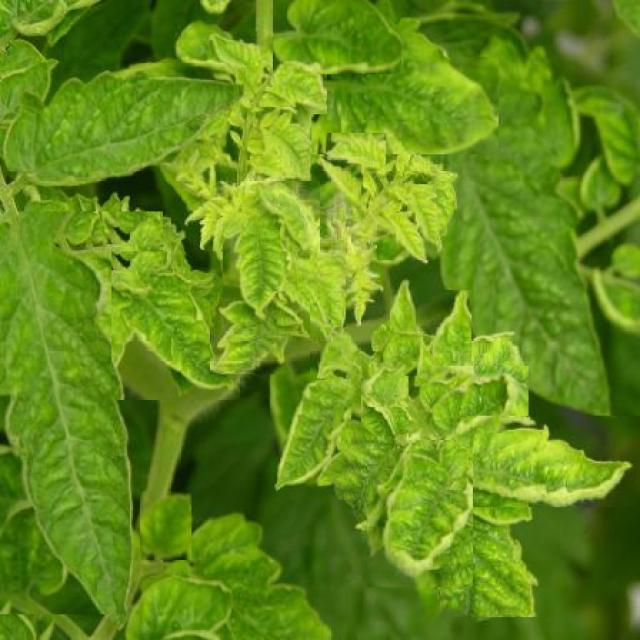Yellow Leaf Curl Virus: (0, 212, 163, 615), (2, 63, 247, 186), (302, 57, 499, 154), (112, 251, 240, 400), (455, 415, 640, 507), (367, 449, 473, 587), (271, 354, 365, 500), (441, 500, 552, 618), (272, 0, 401, 74), (408, 366, 529, 441), (210, 292, 310, 374), (223, 209, 297, 312), (122, 575, 231, 640), (286, 241, 346, 338), (257, 182, 320, 252), (255, 107, 312, 180), (209, 32, 275, 92), (262, 56, 327, 114), (140, 491, 192, 560), (431, 290, 472, 366), (316, 155, 370, 209), (377, 211, 436, 260), (318, 328, 371, 379), (326, 134, 386, 170), (360, 363, 409, 407), (408, 185, 448, 236), (380, 331, 423, 376), (390, 269, 417, 334)
